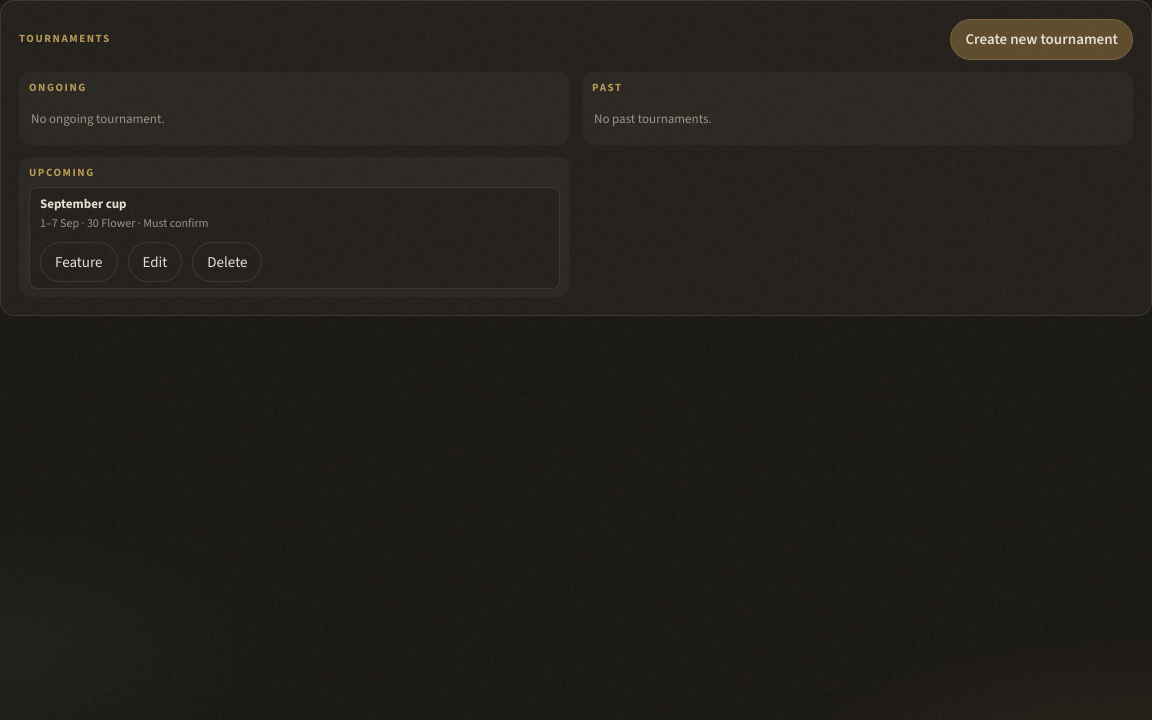
Scenario: AdminTournaments › opens the roster from an upcoming card so pending and add-players are on one overlay
Step 1. Click the button with test id "admin-open-next" → (83,204), box 40,194 -> 549,232
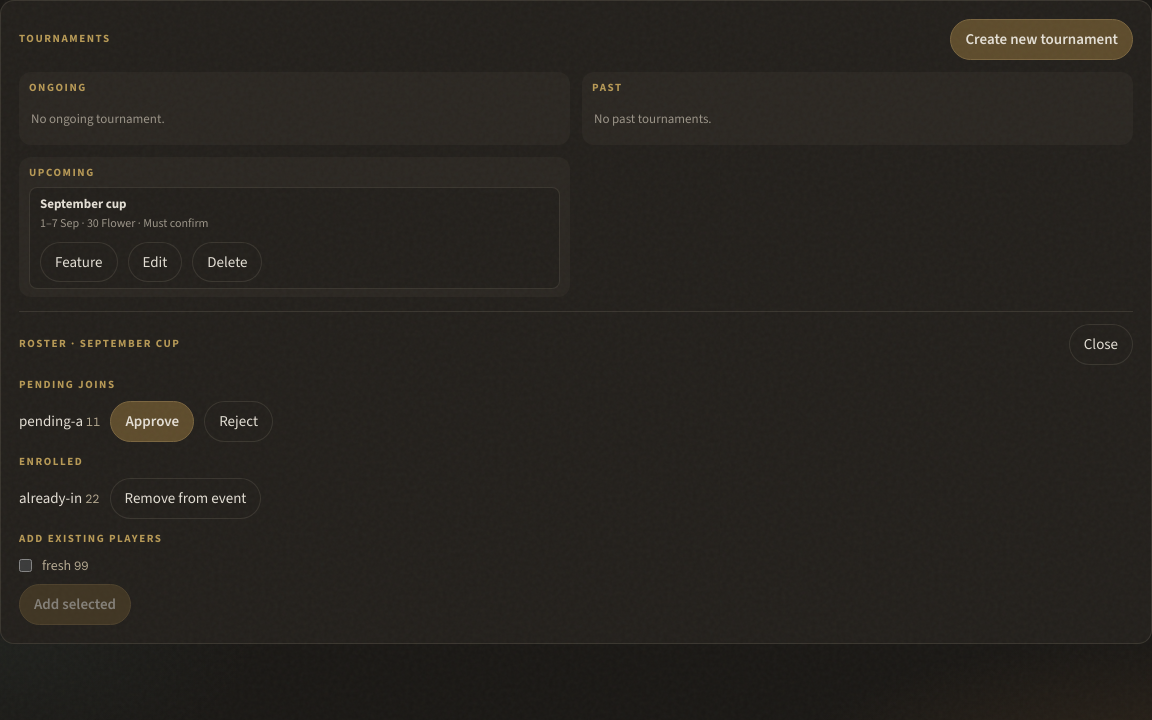
Expected: the element with test id "admin-roster-next" is shown, 19,311 -> 1133,625
Expected: the element with test id "admin-roster-next" shows "pending-a", 19,411 -> 83,431
Expected: the element with test id "admin-roster-next" shows "already-in", 19,488 -> 82,508
